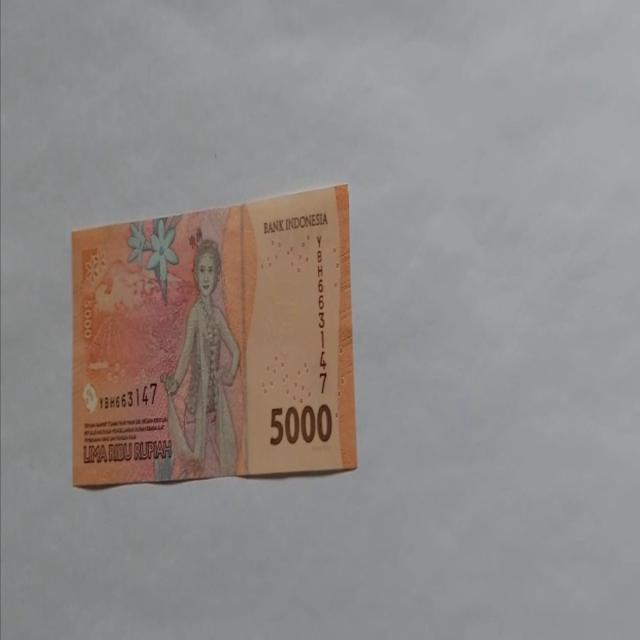lima ribu rupiah: (70, 182, 358, 488), (158, 237, 242, 479)
